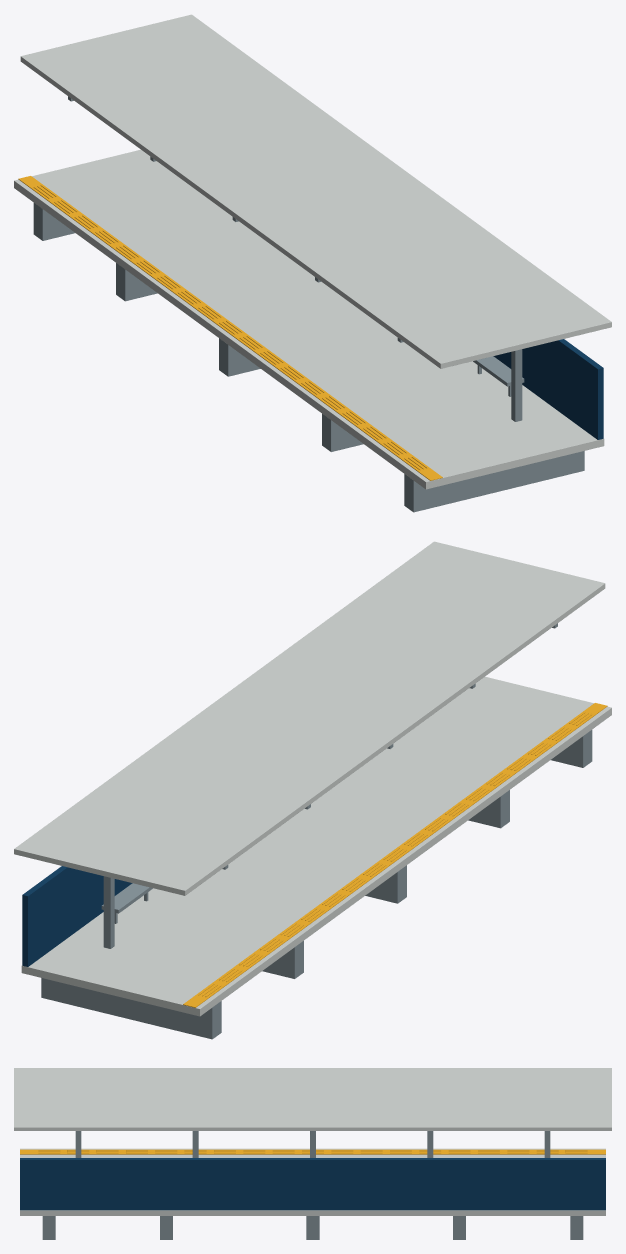
The picture shows the model from 3 angles, top to bottom: view 1: azimuth 30°, elevation 25°; view 2: azimuth 150°, elevation 25°; view 3: azimuth 270°, elevation 25°; orthographic projection. The views are drawn at different scales.
Visible parts, largest first — view 1: CANOPY_Roof, PLATFORM_Slab, REAR_ServiceWall, EDGE_Tactile, UNDERSTRUCTURE, UNDERSTRUCTURE.004, CANOPY_Post.001, UNDERSTRUCTURE.001, UNDERSTRUCTURE.002, UNDERSTRUCTURE.003; view 2: CANOPY_Roof, PLATFORM_Slab, REAR_ServiceWall, EDGE_Tactile, UNDERSTRUCTURE.004, UNDERSTRUCTURE, CANOPY_Post, UNDERSTRUCTURE.003, UNDERSTRUCTURE.001, UNDERSTRUCTURE.002; view 3: CANOPY_Roof, REAR_ServiceWall, PLATFORM_Slab, EDGE_Tactile, UNDERSTRUCTURE, UNDERSTRUCTURE.002, UNDERSTRUCTURE.004, UNDERSTRUCTURE.001, UNDERSTRUCTURE.003.
Boxes of the visible parts, x1=… form: CANOPY_Roof: x1=20, y1=14, x2=611, y2=368; PLATFORM_Slab: x1=14, y1=149, x2=604, y2=489; REAR_ServiceWall: x1=493, y1=339, x2=603, y2=439; EDGE_Tactile: x1=18, y1=176, x2=442, y2=480; UNDERSTRUCTURE: x1=404, y1=451, x2=584, y2=512; UNDERSTRUCTURE.004: x1=33, y1=203, x2=74, y2=240; CANOPY_Post.001: x1=511, y1=349, x2=522, y2=421; UNDERSTRUCTURE.001: x1=322, y1=414, x2=363, y2=451; UNDERSTRUCTURE.002: x1=219, y1=338, x2=260, y2=376; UNDERSTRUCTURE.003: x1=116, y1=263, x2=157, y2=301; CANOPY_Roof: x1=14, y1=541, x2=605, y2=895; PLATFORM_Slab: x1=21, y1=676, x2=611, y2=1016; REAR_ServiceWall: x1=22, y1=866, x2=132, y2=966; EDGE_Tactile: x1=183, y1=703, x2=607, y2=1007; UNDERSTRUCTURE.004: x1=41, y1=978, x2=221, y2=1039; UNDERSTRUCTURE: x1=551, y1=730, x2=592, y2=767; CANOPY_Post: x1=103, y1=876, x2=114, y2=948; UNDERSTRUCTURE.003: x1=262, y1=941, x2=303, y2=978; UNDERSTRUCTURE.001: x1=468, y1=790, x2=509, y2=828; UNDERSTRUCTURE.002: x1=365, y1=865, x2=406, y2=903; CANOPY_Roof: x1=14, y1=1068, x2=611, y2=1130; REAR_ServiceWall: x1=20, y1=1158, x2=605, y2=1210; PLATFORM_Slab: x1=20, y1=1148, x2=605, y2=1215; EDGE_Tactile: x1=20, y1=1149, x2=605, y2=1154; UNDERSTRUCTURE: x1=42, y1=1216, x2=55, y2=1239; UNDERSTRUCTURE.002: x1=306, y1=1216, x2=319, y2=1239; UNDERSTRUCTURE.004: x1=570, y1=1216, x2=583, y2=1239; UNDERSTRUCTURE.001: x1=160, y1=1216, x2=172, y2=1239; UNDERSTRUCTURE.003: x1=453, y1=1216, x2=465, y2=1239.
Bounding box in the file's own units: 5.1 × 4.33 × 20.4.
